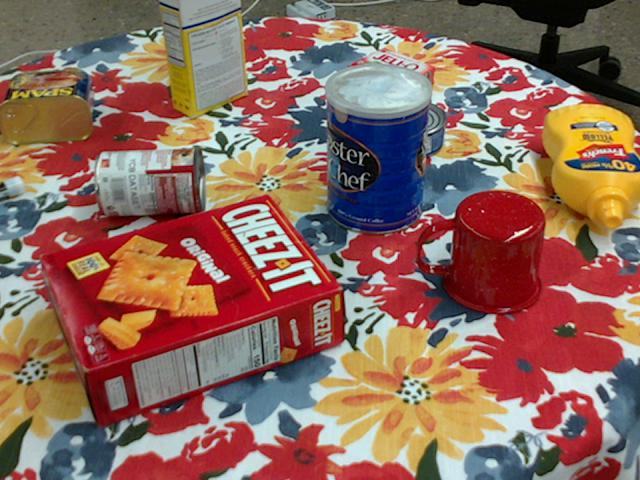cracker_box: (39, 196, 341, 428)
gelatin_box: (345, 50, 433, 105)
large_marker: (0, 176, 24, 199)
master_chef_can: (324, 63, 431, 236)
mug: (417, 189, 545, 315)
mustard_bottle: (541, 103, 639, 227)
potted_meat_can: (0, 68, 93, 143)
sugar_box: (160, 0, 247, 115)
tomato_soup_can: (93, 147, 202, 216)
tuna_fish_can: (372, 99, 446, 159)
